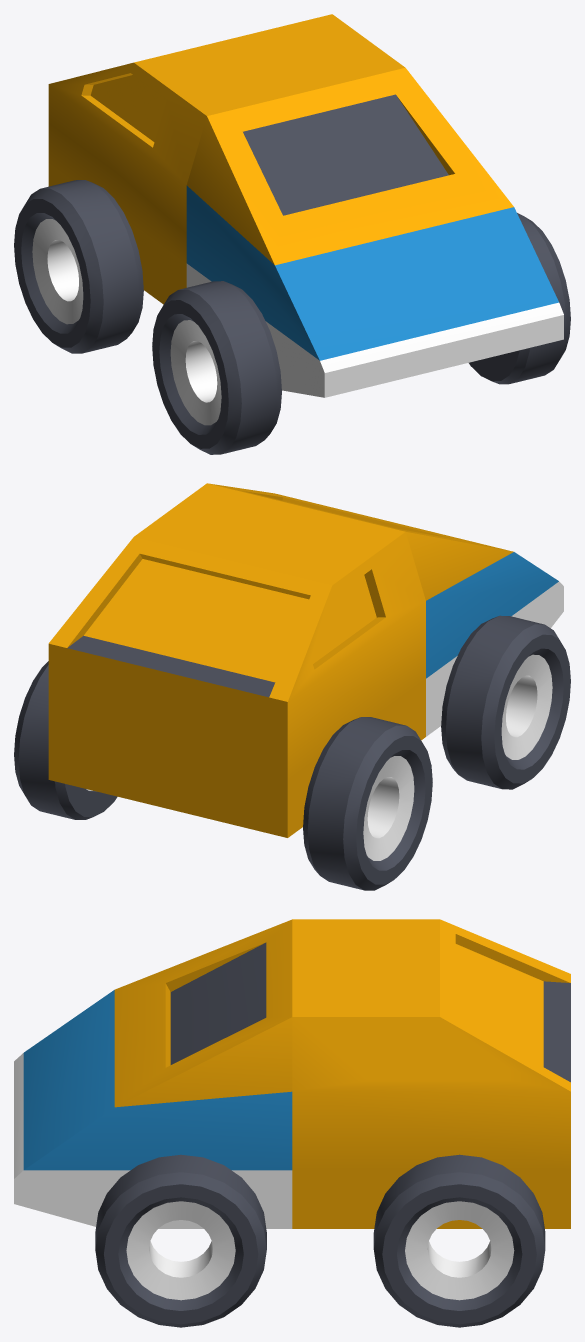
The model's file is Enemy_1.fbx.
The picture shows the model from 3 angles, top to bottom: view 1: azimuth 30°, elevation 25°; view 2: azimuth 150°, elevation 25°; view 3: azimuth 270°, elevation 25°; orthographic projection.
Visible parts, largest first — view 1: trunk_smooth_13, windshield_default_12, wheel_future_14, wheel_future_15, wheel_future_16; view 2: windshield_default_12, wheel_future_14, wheel_future_15, trunk_smooth_13, wheel_future_17; view 3: windshield_default_12, trunk_smooth_13, wheel_future_17, wheel_future_16.
Part boxes in pixels (bbox=[...]): trunk_smooth_13: bbox=[186, 67, 563, 397]; windshield_default_12: bbox=[48, 14, 404, 304]; wheel_future_14: bbox=[14, 180, 143, 353]; wheel_future_15: bbox=[152, 281, 281, 454]; wheel_future_16: bbox=[469, 213, 570, 384]; windshield_default_12: bbox=[48, 483, 425, 837]; wheel_future_14: bbox=[303, 717, 432, 890]; wheel_future_15: bbox=[441, 615, 570, 789]; trunk_smooth_13: bbox=[209, 483, 563, 736]; wheel_future_17: bbox=[14, 661, 117, 819]; windshield_default_12: bbox=[292, 919, 570, 1228]; trunk_smooth_13: bbox=[14, 919, 292, 1228]; wheel_future_17: bbox=[373, 1154, 545, 1327]; wheel_future_16: bbox=[95, 1154, 266, 1327].
Bounding box in the file's own units: 14.3 × 11.08 × 20.
